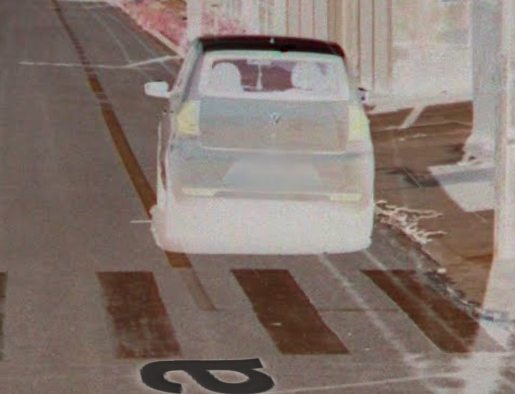car: (145, 35, 384, 245)
